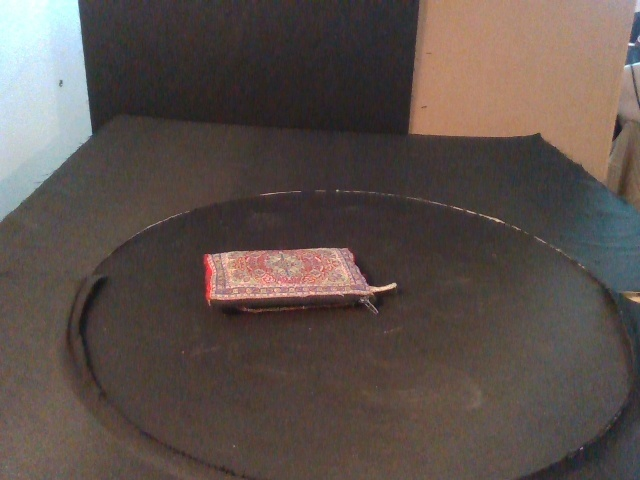pencil_case: (201, 246, 376, 314)
